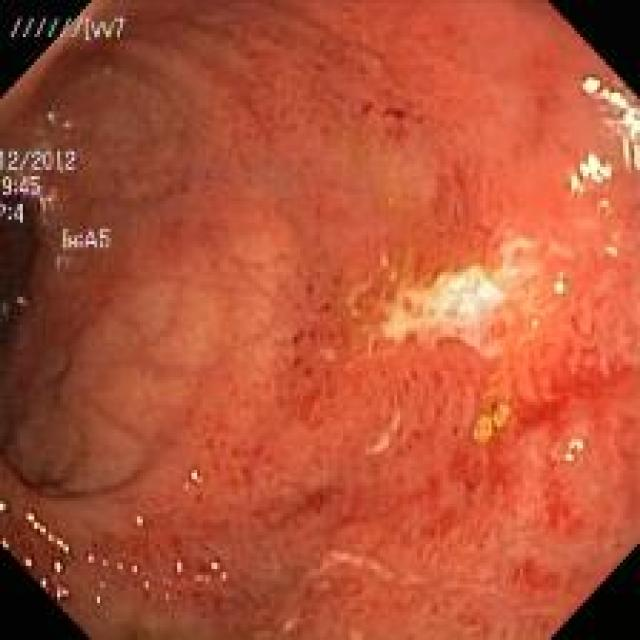ulcerative-colitis-grade-1-2: (2, 4, 638, 640)
